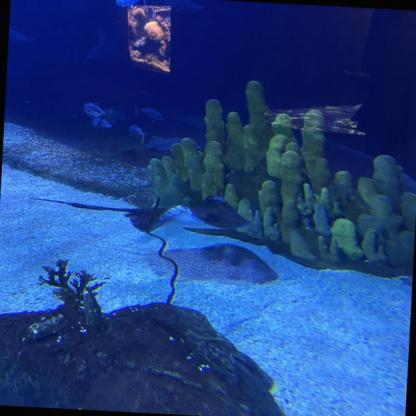fish: (79, 102, 109, 120), (111, 0, 151, 12), (126, 127, 149, 143), (134, 108, 162, 121)
stingray: (123, 192, 242, 239)
